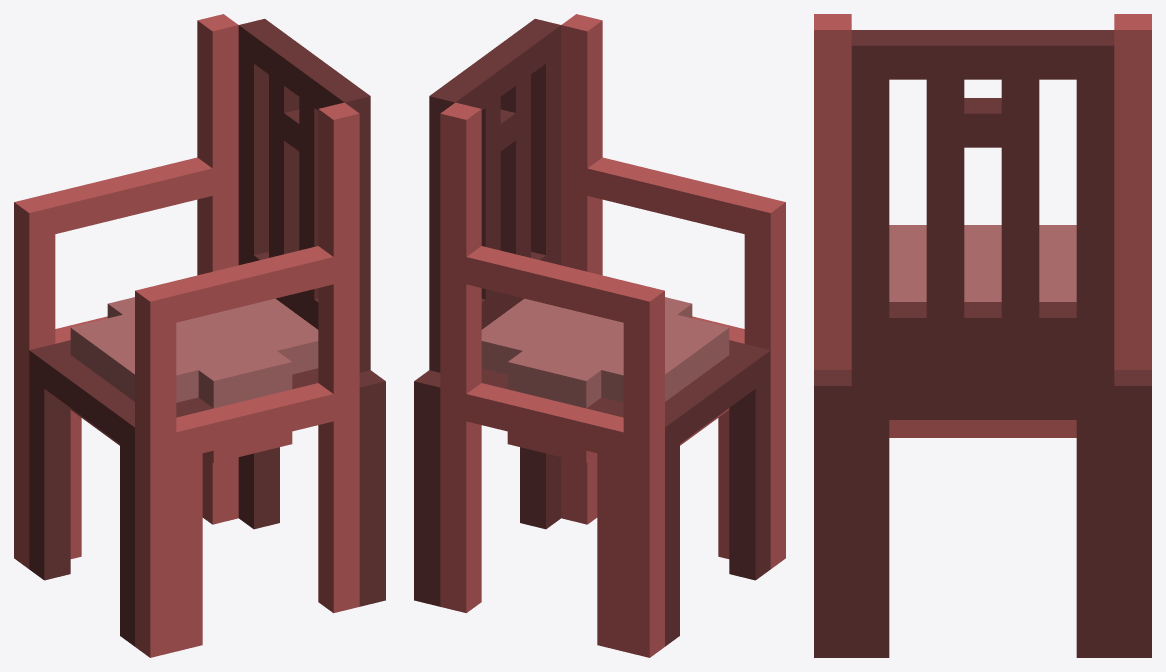
Rendered from restaurant-3.obj.
3 views of the same model, side by side, from view 1: azimuth 30°, elevation 25°; view 2: azimuth 150°, elevation 25°; view 3: azimuth 270°, elevation 25° (orthographic). The views are drawn at different scales.
Size of the model in its own units: 0.9 by 1.8 by 0.9.
1 material, 1 textured.
